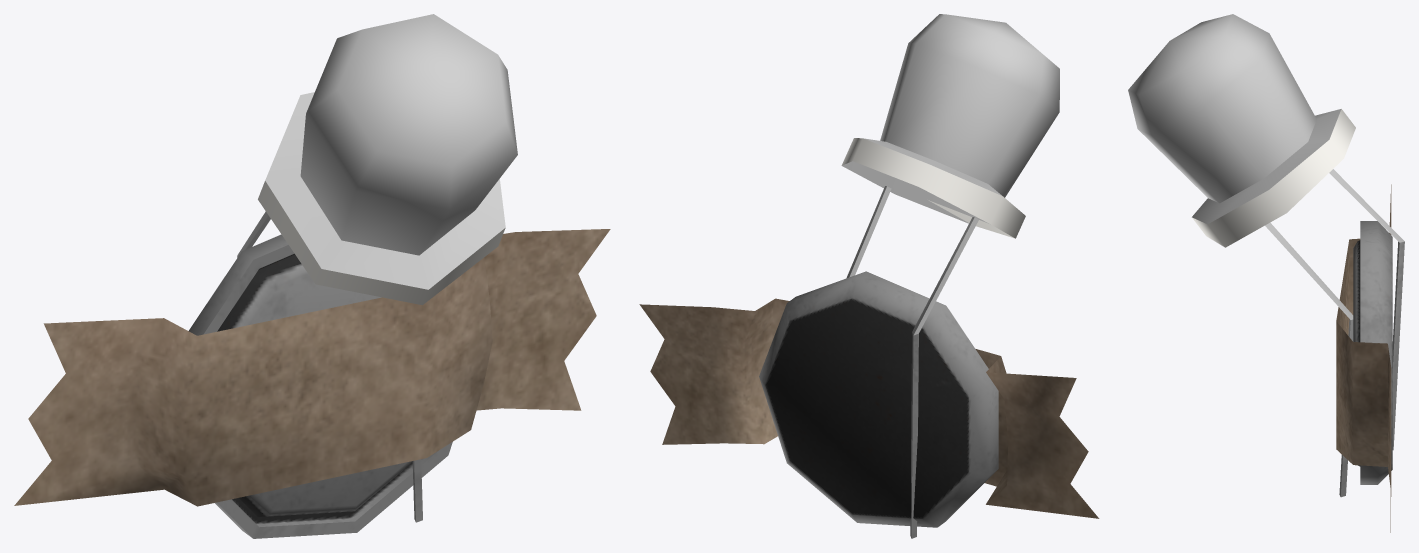
The model's file is Lamp_Wall.fbx.
3 renders of one model, left to right at view 1: azimuth 30°, elevation 25°; view 2: azimuth 150°, elevation 25°; view 3: azimuth 270°, elevation 25°, orthographic. The views are drawn at different scales.
Parts seen in each view (by area): view 1: Torch_Wall; view 2: Torch_Wall; view 3: Torch_Wall.
Boxes of the visible parts, x1,y1,x2,y2 form: Torch_Wall: [14, 14, 610, 538]; Torch_Wall: [639, 14, 1099, 538]; Torch_Wall: [1128, 14, 1404, 532].
Bounding box in the file's own units: 8.06 × 7.59 × 4.28.
